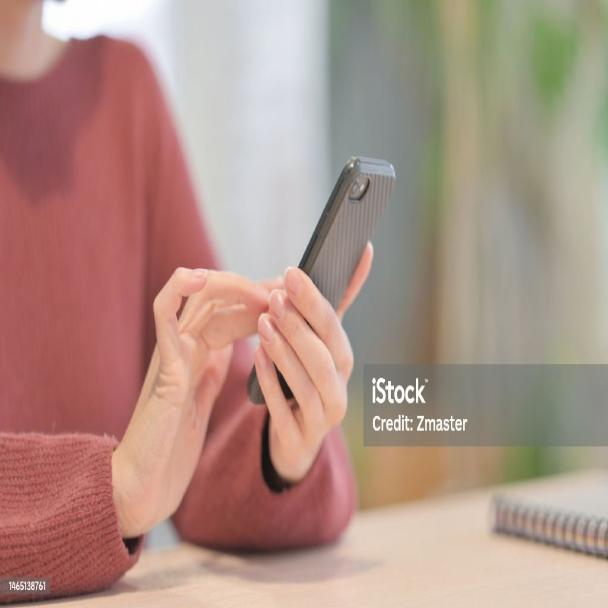Handphone: (243, 151, 404, 407)
